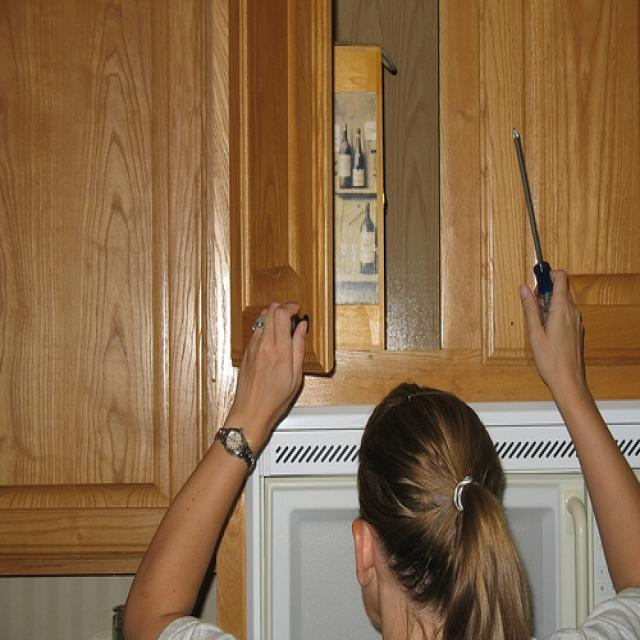screwdriver: (506, 123, 560, 320)
